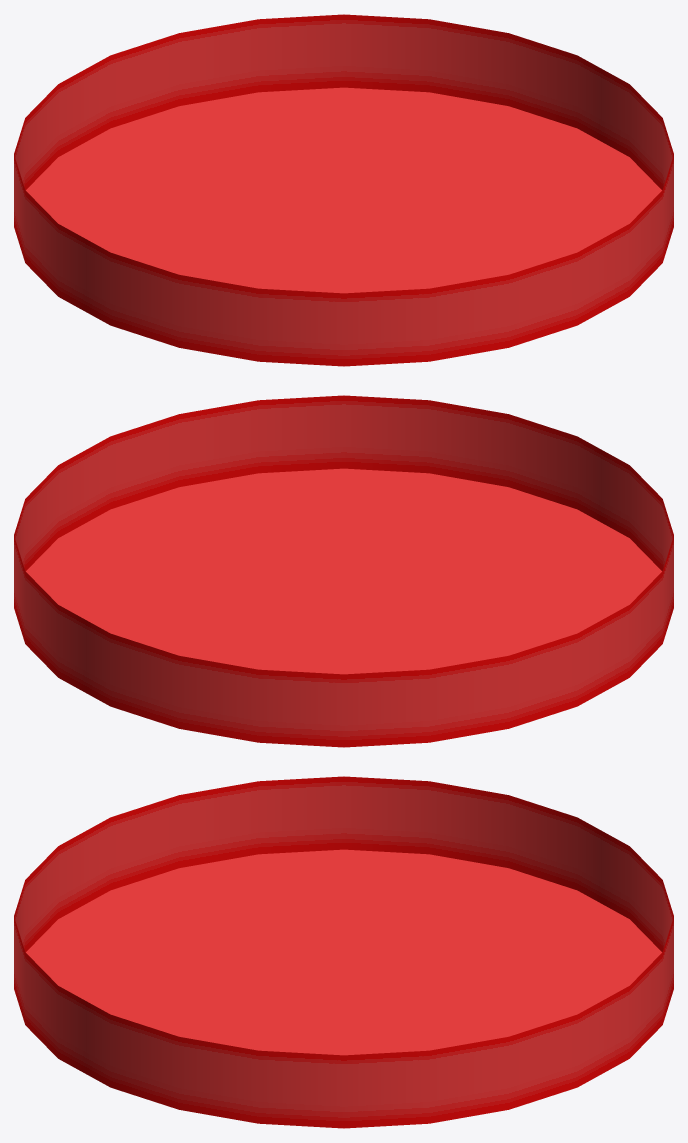
File: damage_circle.obj
The picture shows the model from 3 angles, top to bottom: view 1: azimuth 30°, elevation 25°; view 2: azimuth 150°, elevation 25°; view 3: azimuth 270°, elevation 25°; orthographic projection.
Visible parts, largest first — view 1: pCylinder1; view 2: pCylinder1; view 3: pCylinder1.
Part boxes in pixels (x1,y1,x2,y2): pCylinder1: [14, 14, 673, 366]; pCylinder1: [14, 395, 673, 747]; pCylinder1: [14, 776, 673, 1128].
Size of the model in its own units: 10 by 1.22 by 10.
Materials: 1 (1 with a texture image).
